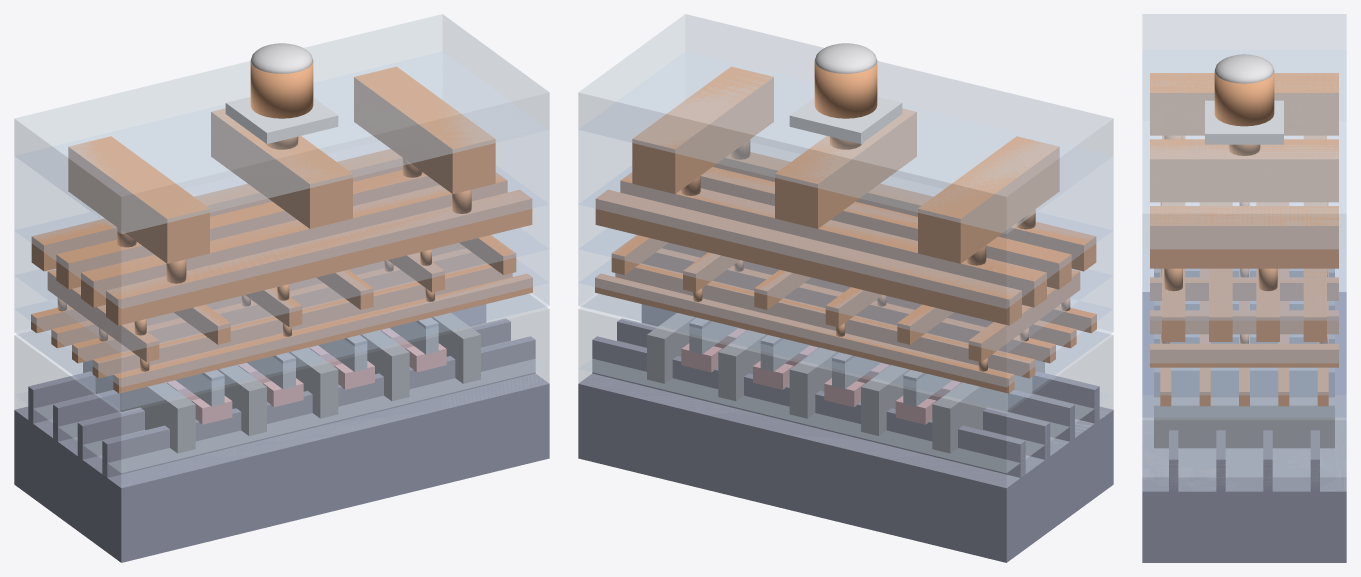
Rendered from chip_section.glb.
The picture shows the model from 3 angles, left to right: view 1: azimuth 30°, elevation 25°; view 2: azimuth 150°, elevation 25°; view 3: azimuth 270°, elevation 25°; orthographic projection. The views are drawn at different scales.
Parts seen in each view (by area): view 1: passivation, ild_m4, substrate, ild_0, ild_m3, ild_m2, m3_0, ild_m1, sti_oxide, fin_0, m4_0, m4_2 (+34 smaller); view 2: passivation, ild_m4, substrate, ild_0, ild_m3, ild_m2, m3_3, ild_m1, sti_oxide, fin_3, m4_0, m4_2 (+34 smaller); view 3: passivation, substrate, ild_m4, ild_0, m4_2, m4_1, ild_m3, ild_m1, gate_4, sti_oxide, m4_0, ild_m2 (+27 smaller).
Boxes of the visible parts, x1,y1,x2,y2 form: passivation: [14, 14, 549, 233]; ild_m4: [14, 52, 549, 308]; substrate: [14, 373, 549, 562]; ild_0: [14, 294, 549, 472]; ild_m3: [14, 166, 549, 353]; ild_m2: [14, 228, 549, 386]; m3_0: [106, 189, 532, 325]; ild_m1: [14, 259, 549, 410]; sti_oxide: [14, 359, 549, 487]; fin_0: [102, 336, 535, 477]; m4_0: [68, 136, 209, 263]; m4_2: [354, 66, 495, 193]; passivation: [578, 14, 1113, 233]; ild_m4: [578, 52, 1113, 308]; substrate: [578, 373, 1113, 562]; ild_0: [578, 294, 1113, 472]; ild_m3: [578, 166, 1113, 353]; ild_m2: [578, 228, 1113, 386]; m3_3: [595, 189, 1021, 325]; ild_m1: [578, 259, 1113, 410]; sti_oxide: [578, 359, 1113, 487]; fin_3: [592, 336, 1025, 477]; m4_0: [918, 136, 1059, 263]; m4_2: [632, 66, 773, 193]; passivation: [1142, 14, 1346, 248]; substrate: [1142, 292, 1346, 562]; ild_m4: [1142, 50, 1346, 320]; ild_0: [1142, 395, 1346, 476]; m4_2: [1150, 206, 1338, 268]; m4_1: [1150, 139, 1338, 202]; ild_m3: [1142, 249, 1346, 362]; ild_m1: [1142, 363, 1346, 417]; gate_4: [1154, 397, 1334, 448]; sti_oxide: [1142, 417, 1346, 491]; m4_0: [1150, 73, 1338, 135]; ild_m2: [1142, 321, 1346, 394].
Size of the model in its own units: 6 by 5.65 by 2.6.
